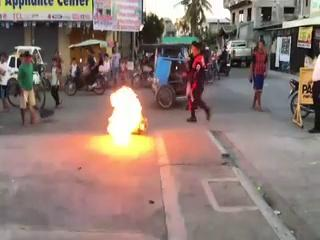Fire: (104, 85, 147, 148)
